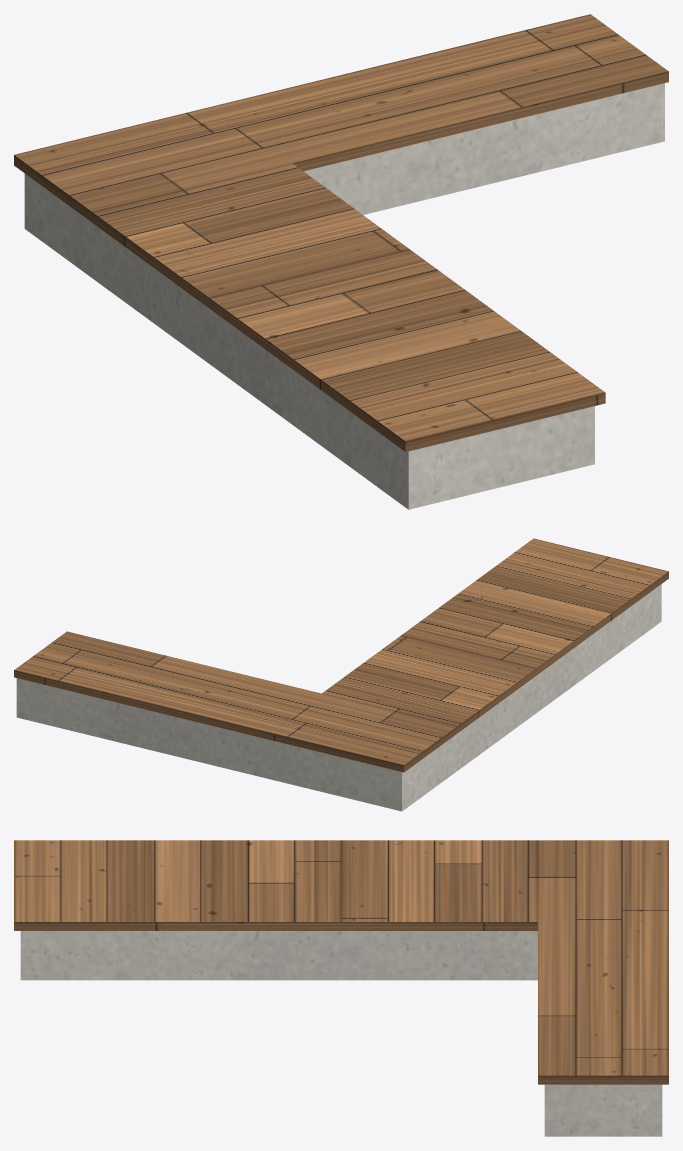
Rendered from floor_wood_u_e0_30_0_0_h2.glb.
3 views of the same model, one above another, from view 1: azimuth 30°, elevation 25°; view 2: azimuth 150°, elevation 25°; view 3: azimuth 270°, elevation 25° (orthographic). The views are drawn at different scales.
Parts seen in each view (by area): view 1: floor_wood_u_e0_30_0_0_h2_floor, floor_wood_u_e0_30_0_0_h2_plaster; view 2: floor_wood_u_e0_30_0_0_h2_floor, floor_wood_u_e0_30_0_0_h2_plaster; view 3: floor_wood_u_e0_30_0_0_h2_floor, floor_wood_u_e0_30_0_0_h2_plaster.
Boxes of the visible parts, x1=… form: floor_wood_u_e0_30_0_0_h2_floor: x1=14, y1=14, x2=668, y2=451; floor_wood_u_e0_30_0_0_h2_plaster: x1=24, y1=83, x2=664, y2=509; floor_wood_u_e0_30_0_0_h2_floor: x1=14, y1=538, x2=668, y2=772; floor_wood_u_e0_30_0_0_h2_plaster: x1=16, y1=584, x2=661, y2=811; floor_wood_u_e0_30_0_0_h2_floor: x1=14, y1=840, x2=668, y2=1084; floor_wood_u_e0_30_0_0_h2_plaster: x1=20, y1=931, x2=662, y2=1136.
Size of the model in its own units: 1.7 by 0.205 by 2.
Materials: 2 (2 with a texture image).
